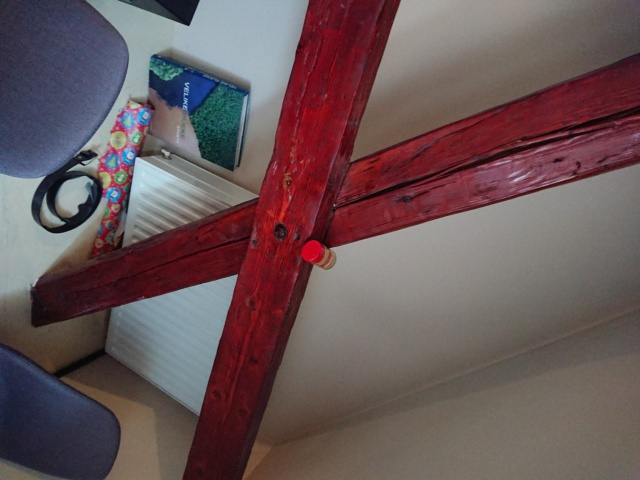Kotanyi Curry Spices Mix 70g: (299, 238, 338, 272)
